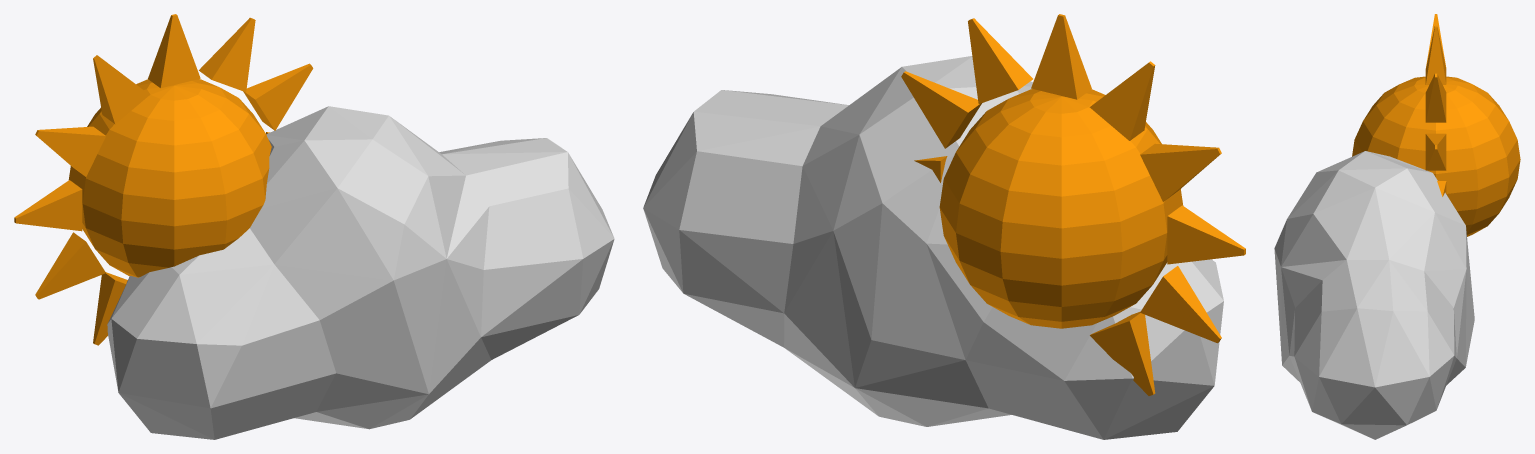
The model's file is cloud-sun.glb.
3 renders of one model, left to right at view 1: azimuth 30°, elevation 25°; view 2: azimuth 150°, elevation 25°; view 3: azimuth 270°, elevation 25°, orthographic. The views are drawn at different scales.
Visible parts, largest first — view 1: Cloud, node-0; view 2: Cloud, node-0; view 3: Cloud, node-0.
Part boxes in pixels (x1,y1,x2,y2): Cloud: [107, 106, 614, 439]; node-0: [14, 14, 313, 345]; Cloud: [643, 56, 1223, 439]; node-0: [901, 14, 1245, 395]; Cloud: [1274, 151, 1474, 439]; node-0: [1352, 14, 1520, 236].
Bounding box in the file's own units: 5.08 × 3.58 × 2.47.
